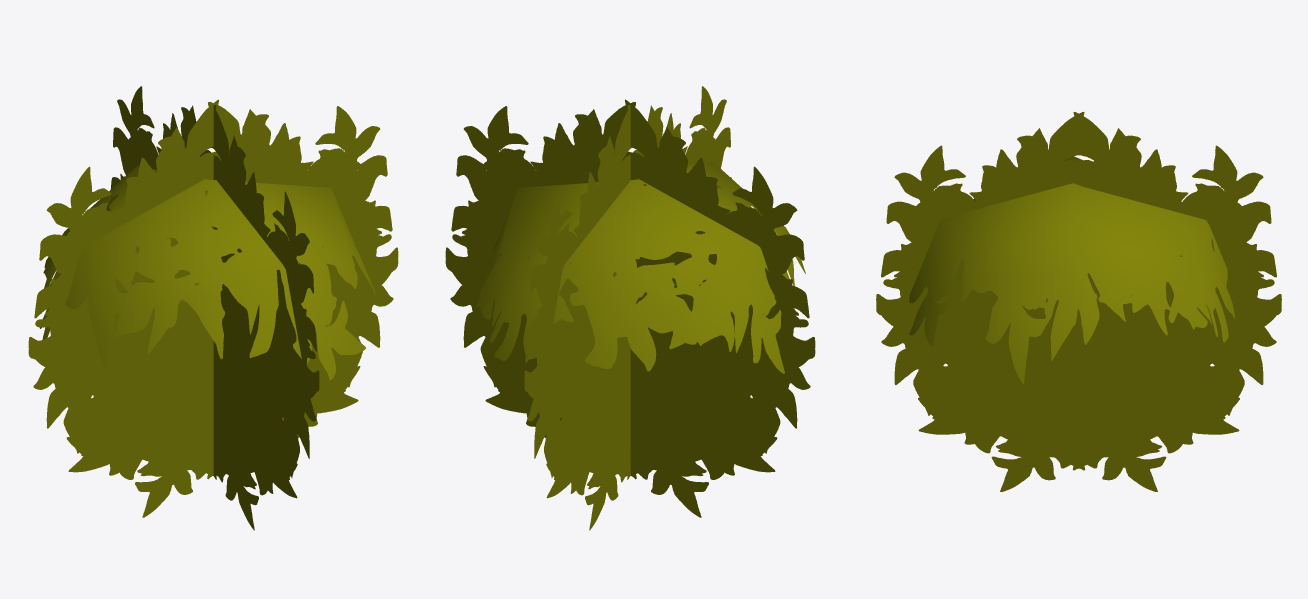
The model's file is bushDark.fbx.
3 renders of one model, left to right at view 1: azimuth 30°, elevation 25°; view 2: azimuth 150°, elevation 25°; view 3: azimuth 270°, elevation 25°, orthographic. The views are drawn at different scales.
Visible parts, largest first — view 1: bushDark; view 2: bushDark; view 3: bushDark.
Boxes of the visible parts, bbox=[...] form: bushDark: bbox=[28, 86, 398, 530]; bushDark: bbox=[445, 86, 815, 530]; bushDark: bbox=[876, 112, 1281, 491].
Bounding box in the file's own units: 174 × 174 × 174.
